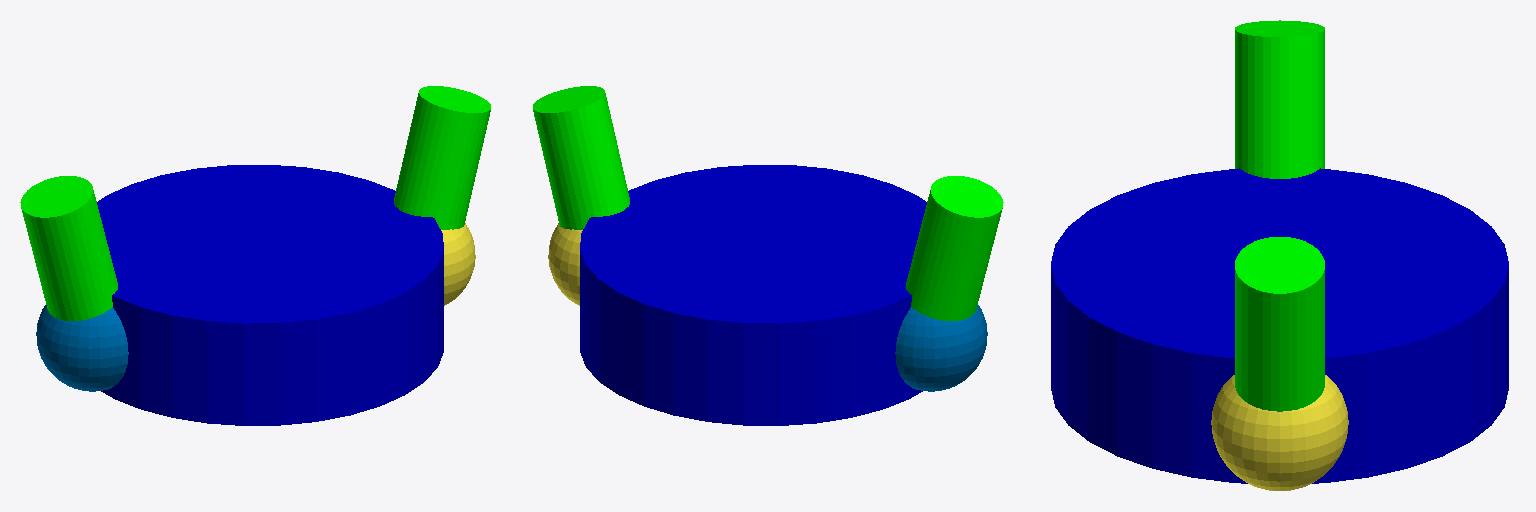
robot.urdf — gripper_2f_1j:
<?xml version='1.0' encoding='UTF-8'?>
<robot name="gripper_2f_1j">
  <link name="palm">
    <inertial>
      <origin xyz="0.0 0.0 0.0" rpy="0.0 -0.0 0.0"/>
      <mass value="1.0"/>
      <inertia ixx="1.0" ixy="0.0" ixz="0.0" iyy="1.0" iyz="0.0" izz="1.0"/>
    </inertial>
    <visual>
      <geometry>
        <cylinder radius="0.05" length="0.03"/>
      </geometry>
      <material name="blue"/>
      <origin xyz="0.0 0.0 0.0" rpy="0.0 -0.0 0.0"/>
    </visual>
    <collision>
      <geometry>
        <cylinder radius="0.05" length="0.03"/>
      </geometry>
      <origin xyz="0.0 0.0 0.0" rpy="0.0 0.0 0.0"/>
    </collision>
  </link>
  <link name="f11">
    <inertial>
      <origin xyz="0.0 0.0 0.0" rpy="0.0 -0.0 0.0"/>
      <mass value="1.0"/>
      <inertia ixx="1.0" ixy="0.0" ixz="0.0" iyy="1.0" iyz="0.0" izz="1.0"/>
    </inertial>
    <visual>
      <geometry>
        <cylinder radius="0.00988573702773297" length="0.04445751593286225"/>
      </geometry>
      <material name="green"/>
      <origin xyz="0.0 0.0 0.022228757966431124" rpy="0.0 -0.0 0.0"/>
    </visual>
    <collision>
      <geometry>
        <cylinder radius="0.00988573702773297" length="0.04445751593286225"/>
      </geometry>
      <origin xyz="0.0 0.0 0.05" rpy="0.0 0.0 0.0"/>
    </collision>
  </link>
  <link name="f21">
    <inertial>
      <origin xyz="0.0 0.0 0.0" rpy="0.0 -0.0 0.0"/>
      <mass value="1.0"/>
      <inertia ixx="1.0" ixy="0.0" ixz="0.0" iyy="1.0" iyz="0.0" izz="1.0"/>
    </inertial>
    <visual>
      <geometry>
        <cylinder radius="0.00988573702773297" length="0.04445751593286225"/>
      </geometry>
      <material name="green"/>
      <origin xyz="0.0 0.0 0.022228757966431124" rpy="0.0 -0.0 0.0"/>
    </visual>
    <collision>
      <geometry>
        <cylinder radius="0.00988573702773297" length="0.04445751593286225"/>
      </geometry>
      <origin xyz="0.0 0.0 0.05" rpy="0.0 0.0 0.0"/>
    </collision>
  </link>
  <link name="f11_base">
    <inertial>
      <origin xyz="0.0 0.0 0.0" rpy="0.0 -0.0 0.0"/>
      <mass value="1.0"/>
      <inertia ixx="1.0" ixy="0.0" ixz="0.0" iyy="1.0" iyz="0.0" izz="1.0"/>
    </inertial>
    <visual>
      <geometry>
        <sphere radius="0.015"/>
      </geometry>
      <origin xyz="0.0 0.0 0.0" rpy="0.0 -0.0 0.0"/>
    </visual>
  </link>
  <link name="f21_base">
    <inertial>
      <origin xyz="0.0 0.0 0.0" rpy="0.0 -0.0 0.0"/>
      <mass value="1.0"/>
      <inertia ixx="1.0" ixy="0.0" ixz="0.0" iyy="1.0" iyz="0.0" izz="1.0"/>
    </inertial>
    <visual>
      <geometry>
        <sphere radius="0.015"/>
      </geometry>
      <origin xyz="0.0 0.0 0.0" rpy="0.0 -0.0 0.0"/>
    </visual>
  </link>
  <joint name="f11_joint" type="revolute">
    <dynamics damping="100.0" friction="1.0"/>
    <limit effort="30.0" velocity="2.0" lower="-0.6" upper="0.25"/>
    <parent link="f11_base"/>
    <child link="f11"/>
    <axis xyz="0. 1. 0."/>
    <origin xyz="0.0 0.0 0.0" rpy="0.0 0.25 0.0"/>
  </joint>
  <joint name="f21_joint" type="revolute">
    <dynamics damping="100.0" friction="1.0"/>
    <limit effort="30.0" velocity="2.0" lower="-0.6" upper="0.25"/>
    <parent link="f21_base"/>
    <child link="f21"/>
    <axis xyz=" 0. -1.  0."/>
    <origin xyz="0.0 0.0 0.0" rpy="0.0 -0.25 0.0"/>
  </joint>
  <joint name="f11_base_joint" type="fixed">
    <parent link="palm"/>
    <child link="f11_base"/>
    <axis xyz="1. 0. 0."/>
    <origin xyz="0.05 0.0 0.0" rpy="0.0 0.0 0.0"/>
  </joint>
  <joint name="f21_base_joint" type="fixed">
    <parent link="palm"/>
    <child link="f21_base"/>
    <axis xyz="1. 0. 0."/>
    <origin xyz="-0.05 -0.0 0.0" rpy="0.0 0.0 0.0"/>
  </joint>
  <material name="blue">
    <color rgba="0.  0.  0.8 1. "/>
  </material>
  <material name="green">
    <color rgba="0. 1. 0. 1."/>
  </material>
</robot>

--- Facts derived from the render (not from the file) ---
3 views of the same robot in one strip: view 1: azimuth 30°, elevation 25°; view 2: azimuth 150°, elevation 25°; view 3: azimuth 270°, elevation 25° (orthographic).
Robot: gripper_2f_1j — 5 links, 4 joints (2 revolute, 2 fixed); root link palm; default pose: every joint at zero.
Links seen in each view (by area): view 1: palm, f21, f11, f21_base, f11_base; view 2: palm, f21, f11, f21_base, f11_base; view 3: palm, f11, f21, f11_base.
Link boxes in pixels (x1=…): palm: x1=97, y1=165, x2=443, y2=425; f21: x1=20, y1=176, x2=117, y2=320; f11: x1=394, y1=86, x2=490, y2=229; f21_base: x1=36, y1=305, x2=128, y2=391; f11_base: x1=441, y1=223, x2=475, y2=305; palm: x1=580, y1=165, x2=926, y2=425; f21: x1=906, y1=176, x2=1003, y2=320; f11: x1=533, y1=86, x2=629, y2=229; f21_base: x1=895, y1=305, x2=987, y2=391; f11_base: x1=548, y1=223, x2=582, y2=305; palm: x1=1051, y1=168, x2=1508, y2=483; f11: x1=1235, y1=237, x2=1324, y2=411; f21: x1=1235, y1=20, x2=1324, y2=178; f11_base: x1=1211, y1=375, x2=1348, y2=490.
Bounding box of the posed robot: 0.1412 × 0.1 × 0.0605 m (x, y, z).
Geometry: primitives only (box / cylinder / sphere), no mesh files.